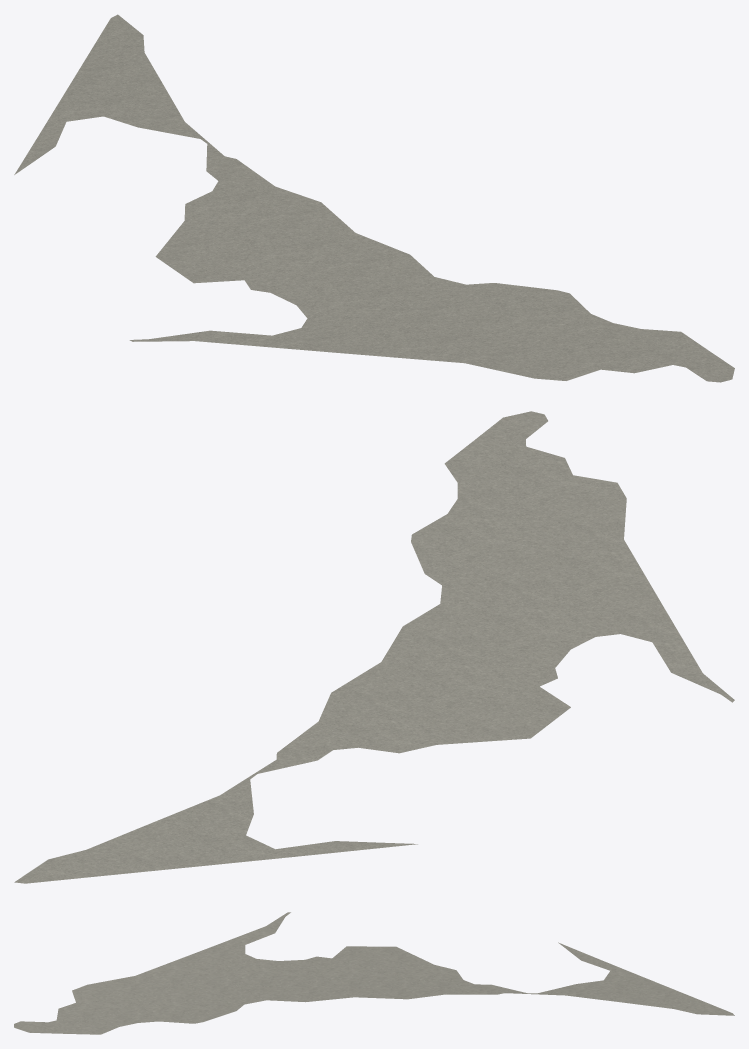
The model's file is path_06.gltf.
3 renders of one model, top to bottom at view 1: azimuth 30°, elevation 25°; view 2: azimuth 150°, elevation 25°; view 3: azimuth 270°, elevation 25°, orthographic. The views are drawn at different scales.
Parts seen in each view (by area): view 1: path_06.surface; view 2: path_06.surface; view 3: path_06.surface.
Part boxes in pixels (<box>): path_06.surface: <box>14,14,734,382</box>; path_06.surface: <box>14,411,734,883</box>; path_06.surface: <box>14,912,734,1034</box>.
Size of the model in its own units: 7.01 by 0.3462 by 16.2.
Materials: 1 (1 with a texture image).
